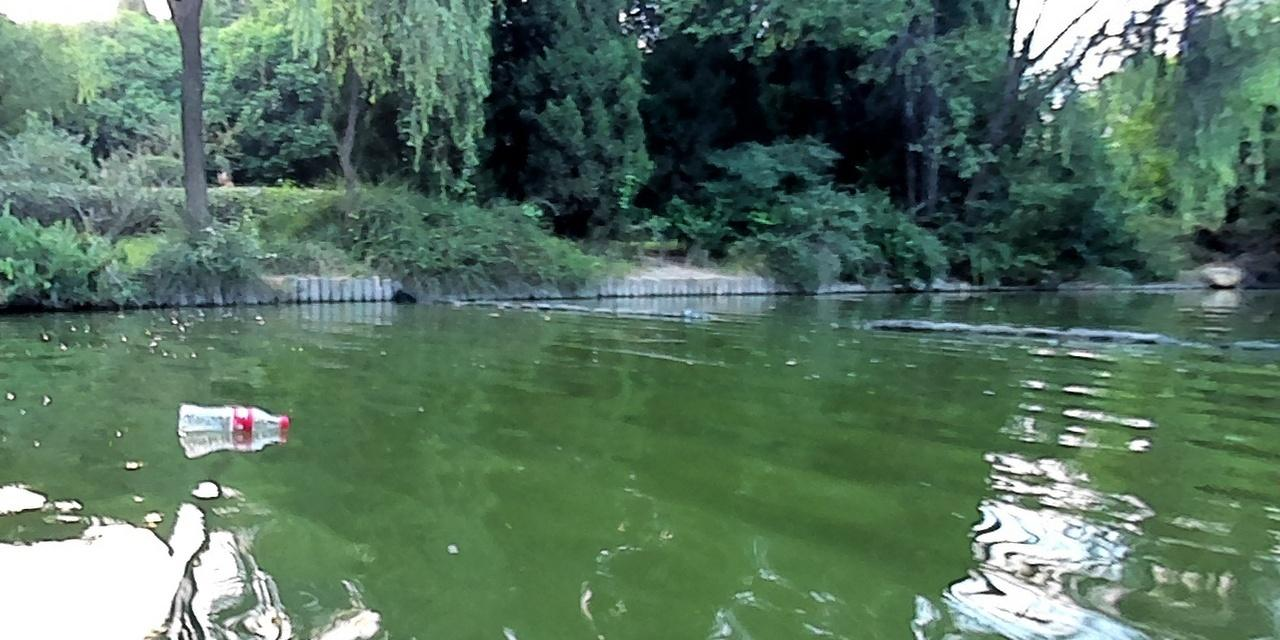bottle: (173, 401, 290, 435)
